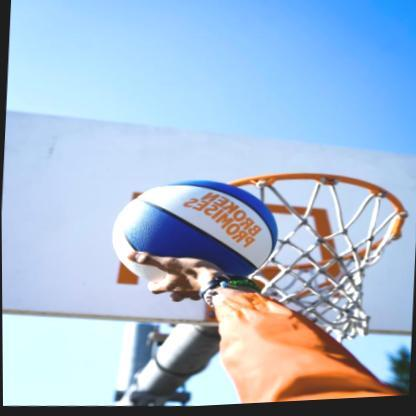basketball: (109, 174, 279, 294)
rim: (188, 136, 413, 371)
